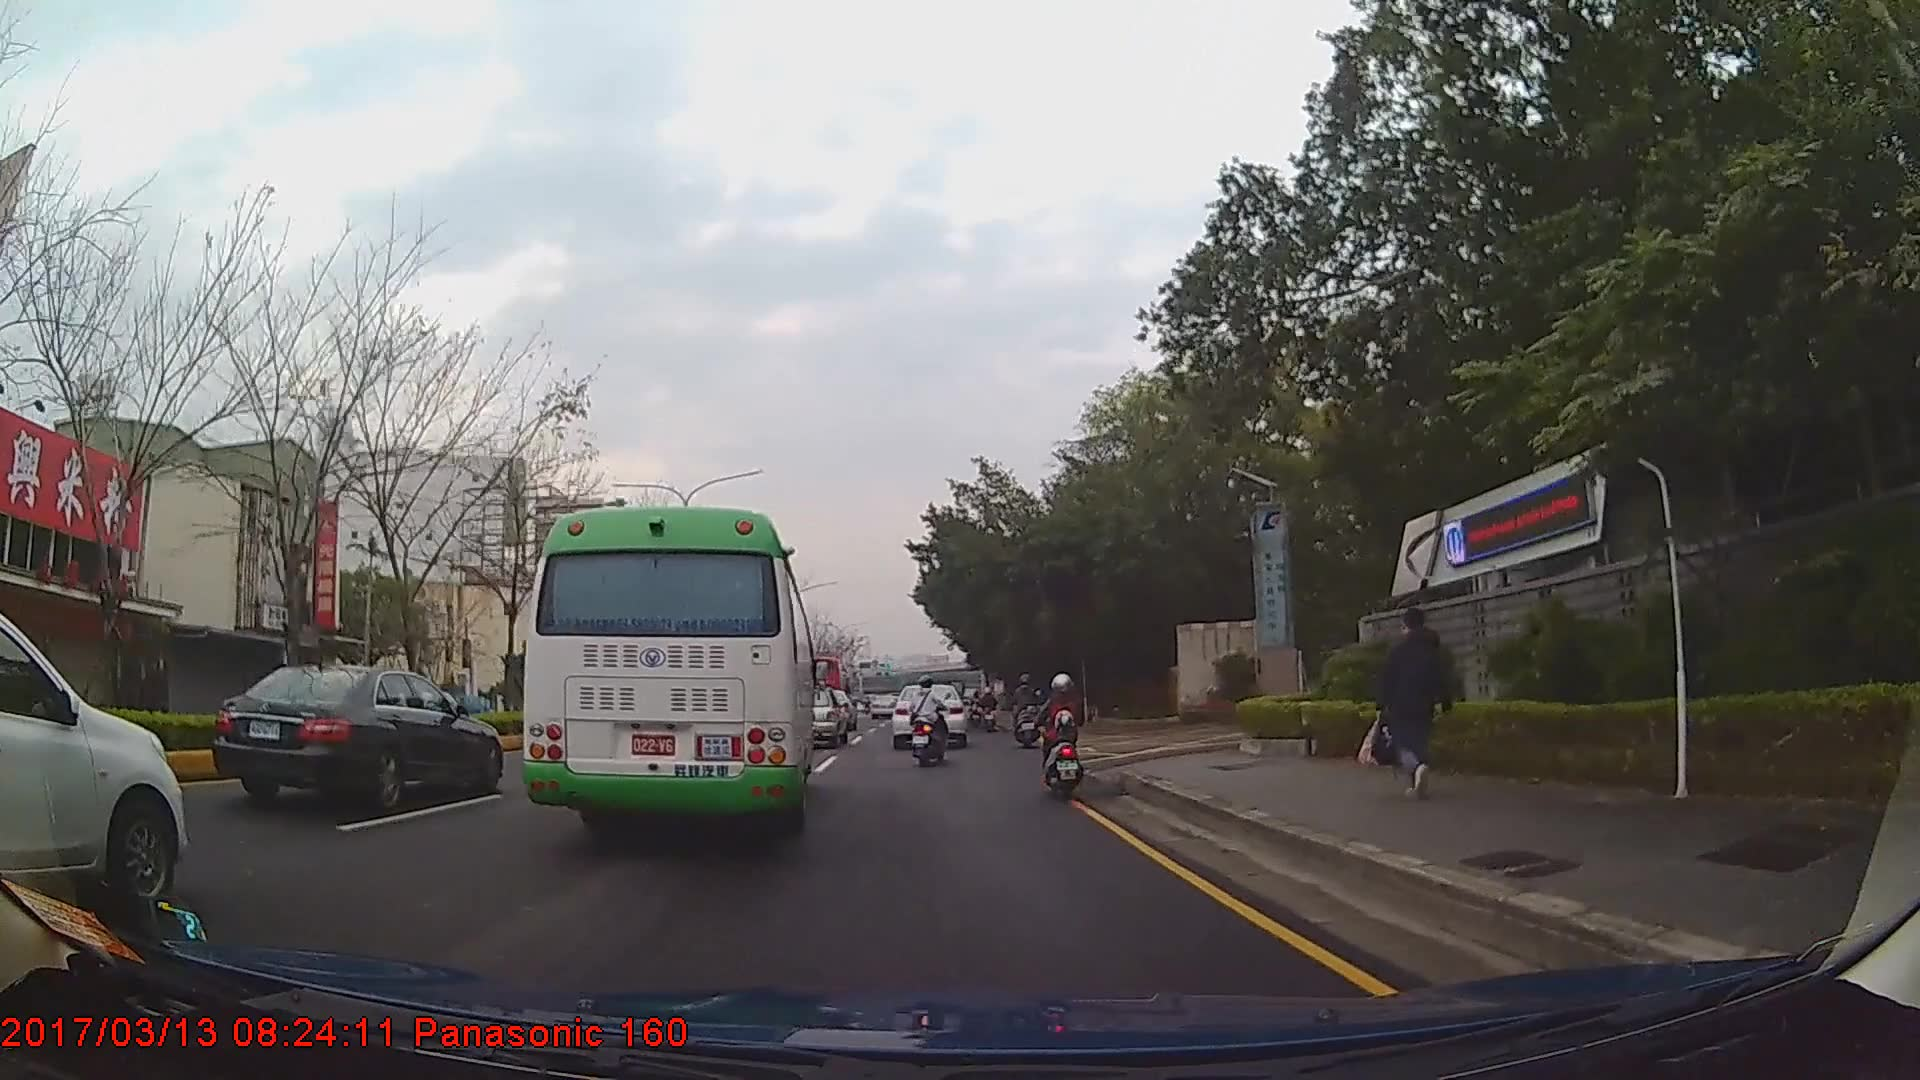pedestrian: (1360, 612, 1448, 802)
rider: (1039, 673, 1081, 799), (911, 678, 952, 767), (1009, 675, 1043, 751), (978, 690, 998, 724)
vehicle: (521, 505, 819, 846), (0, 601, 189, 911), (211, 662, 506, 811), (894, 680, 967, 748)
